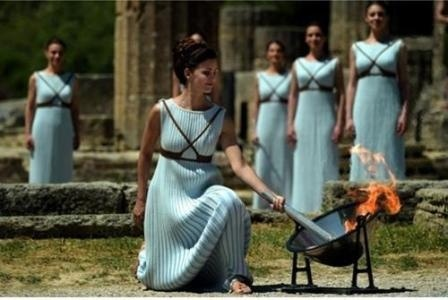fire: (344, 144, 402, 225)
